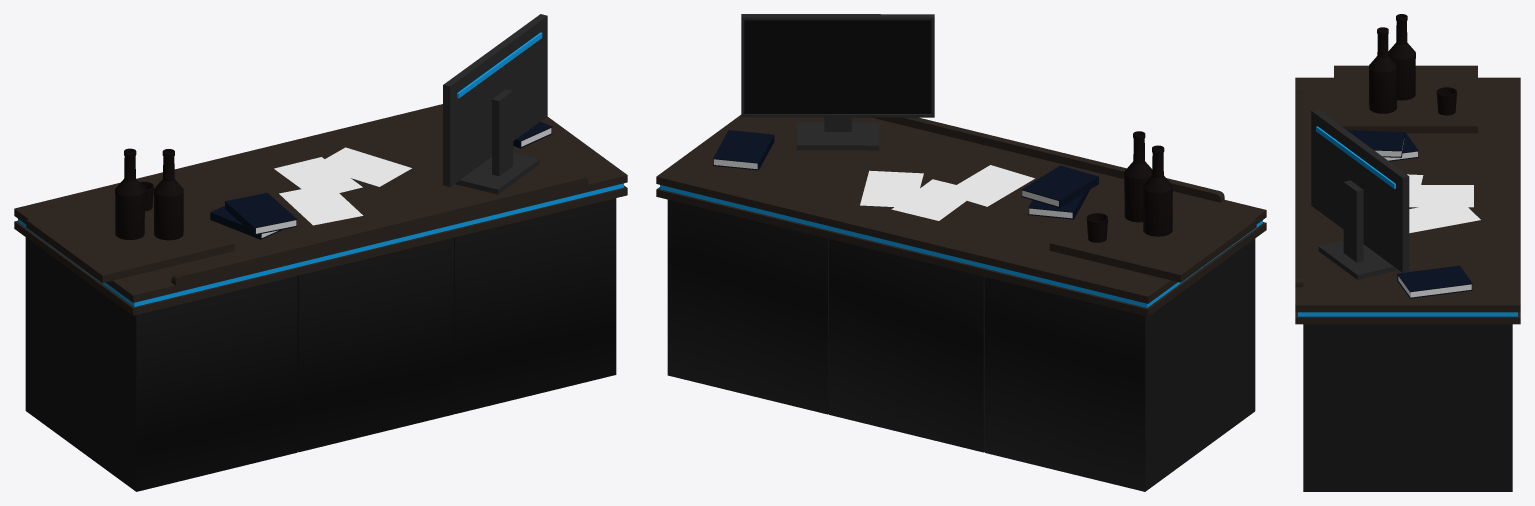
The model's file is Desk_Sci-Fi.fbx.
3 renders of one model, left to right at view 1: azimuth 30°, elevation 25°; view 2: azimuth 150°, elevation 25°; view 3: azimuth 270°, elevation 25°, orthographic. The views are drawn at different scales.
Visible parts, largest first — view 1: Box050; view 2: Box050; view 3: Box050.
Boxes of the visible parts, left/top/right/bottom form: Box050: left=14, top=14, right=627, bottom=491; Box050: left=656, top=14, right=1266, bottom=491; Box050: left=1295, top=14, right=1520, bottom=491.
Bounding box in the file's own units: 2.1 × 1.29 × 0.86.
